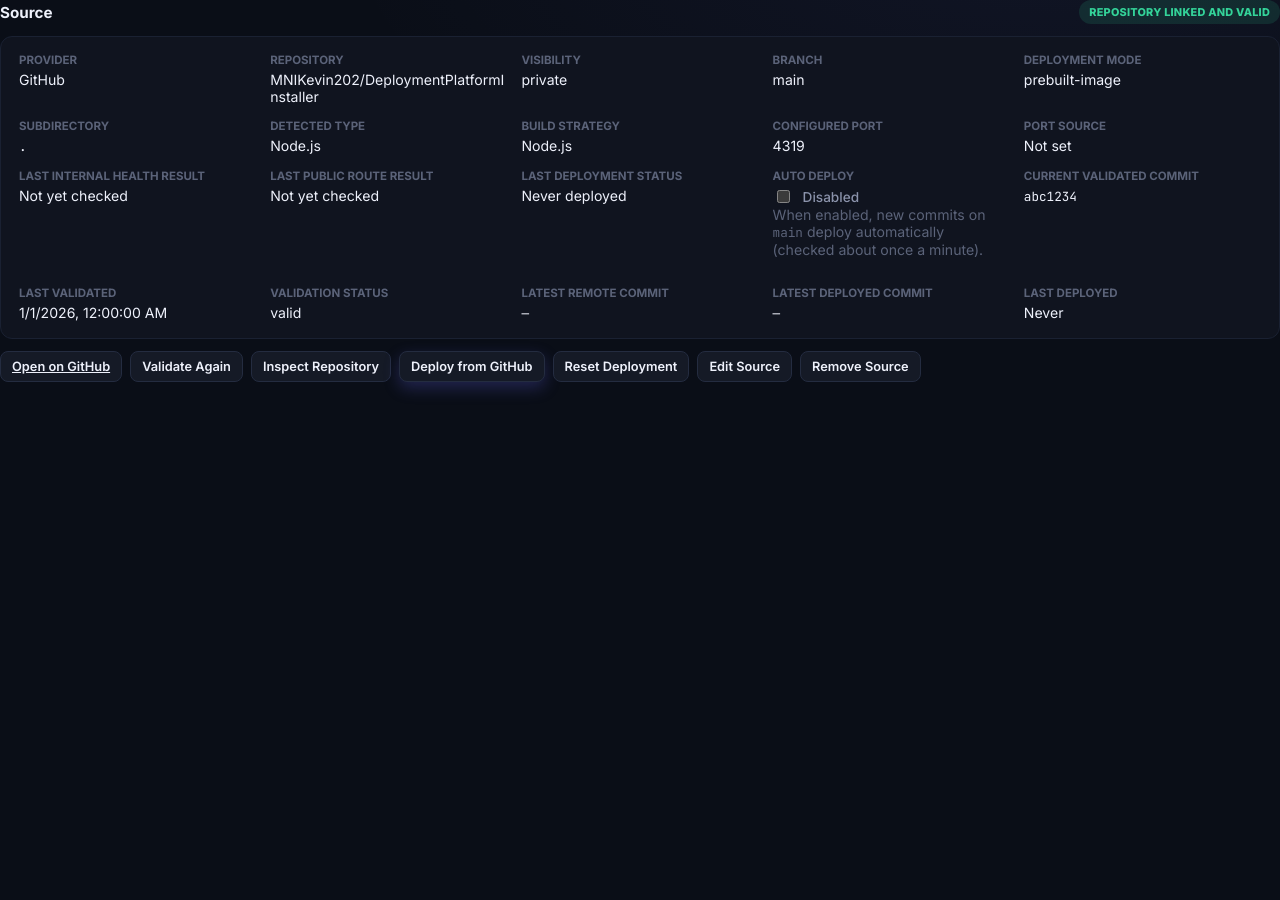
Test: SourcePanel — manual deployment-strategy override › a Node.js-detected repository can manually select Dockerfile
Expected: the text "MNIKevin202/DeploymentPlatformInstaller" is shown, [270,71,507,105]
Click the button "Edit Source" at (745, 367), box [697,351,792,382]
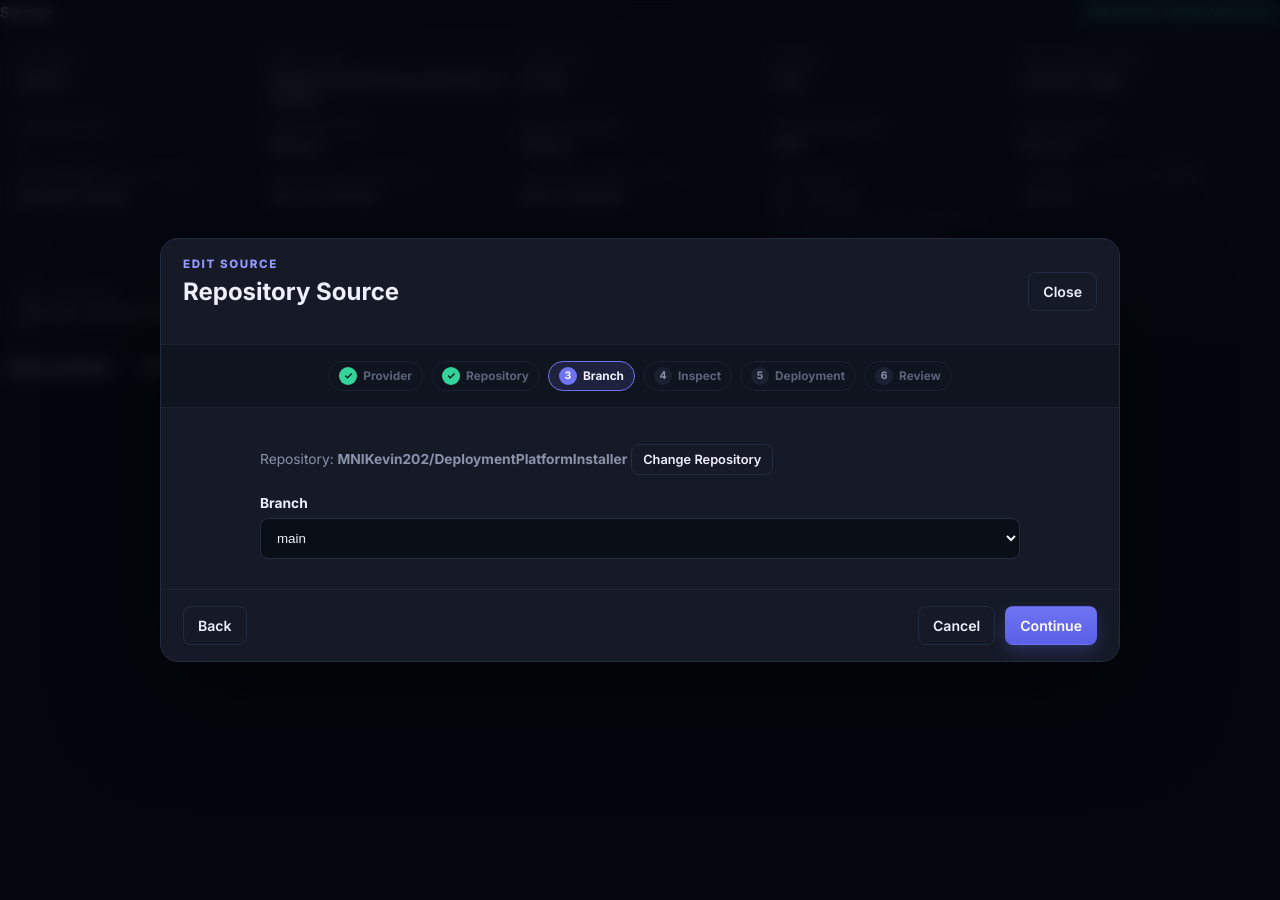
Expected: the text "Edit Source" is shown, [183,257,278,271]
Click the button "Continue" at (1051, 626), box [1005,606,1097,645]
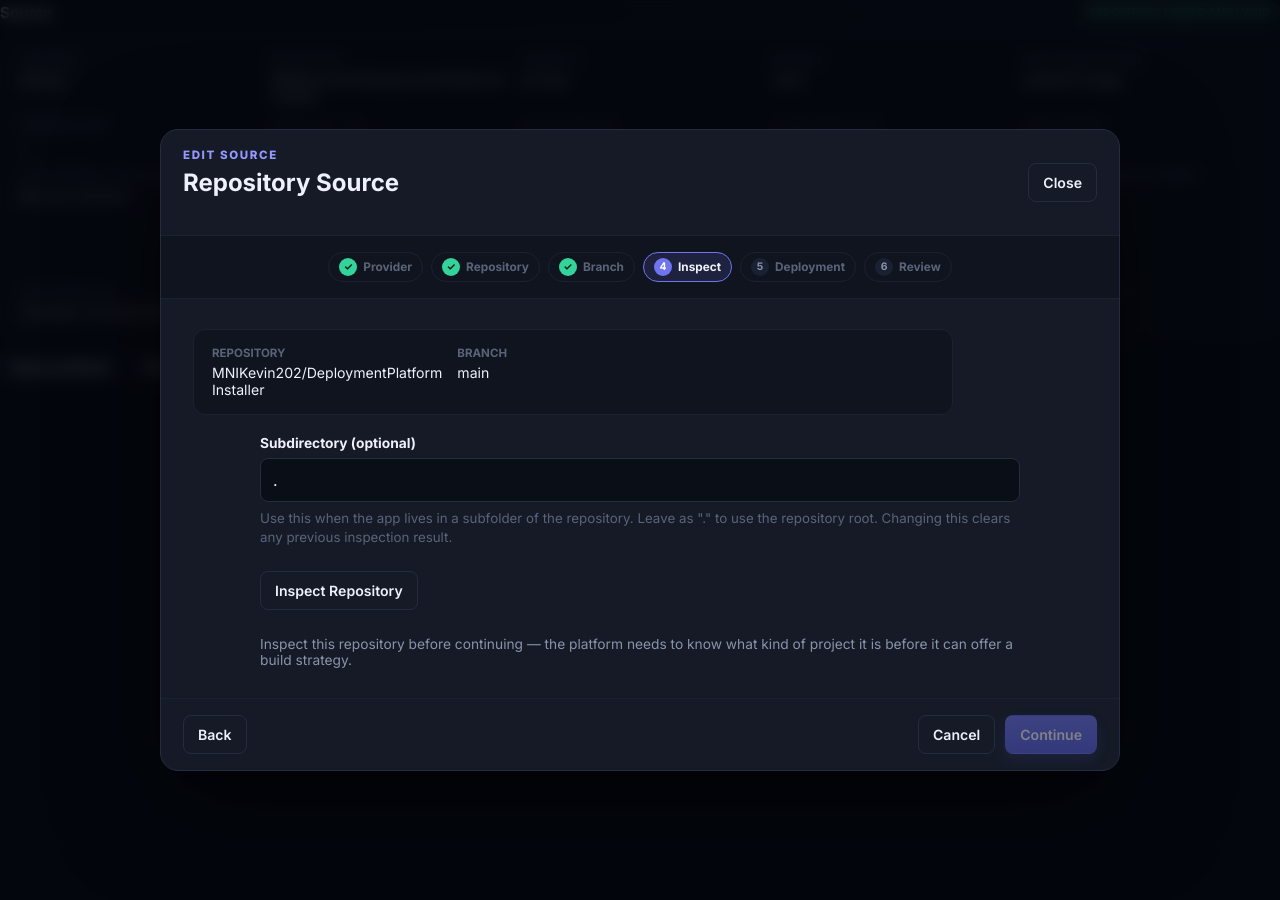
Click the button "Inspect Repository" at (339, 591), box [260,571,418,610]
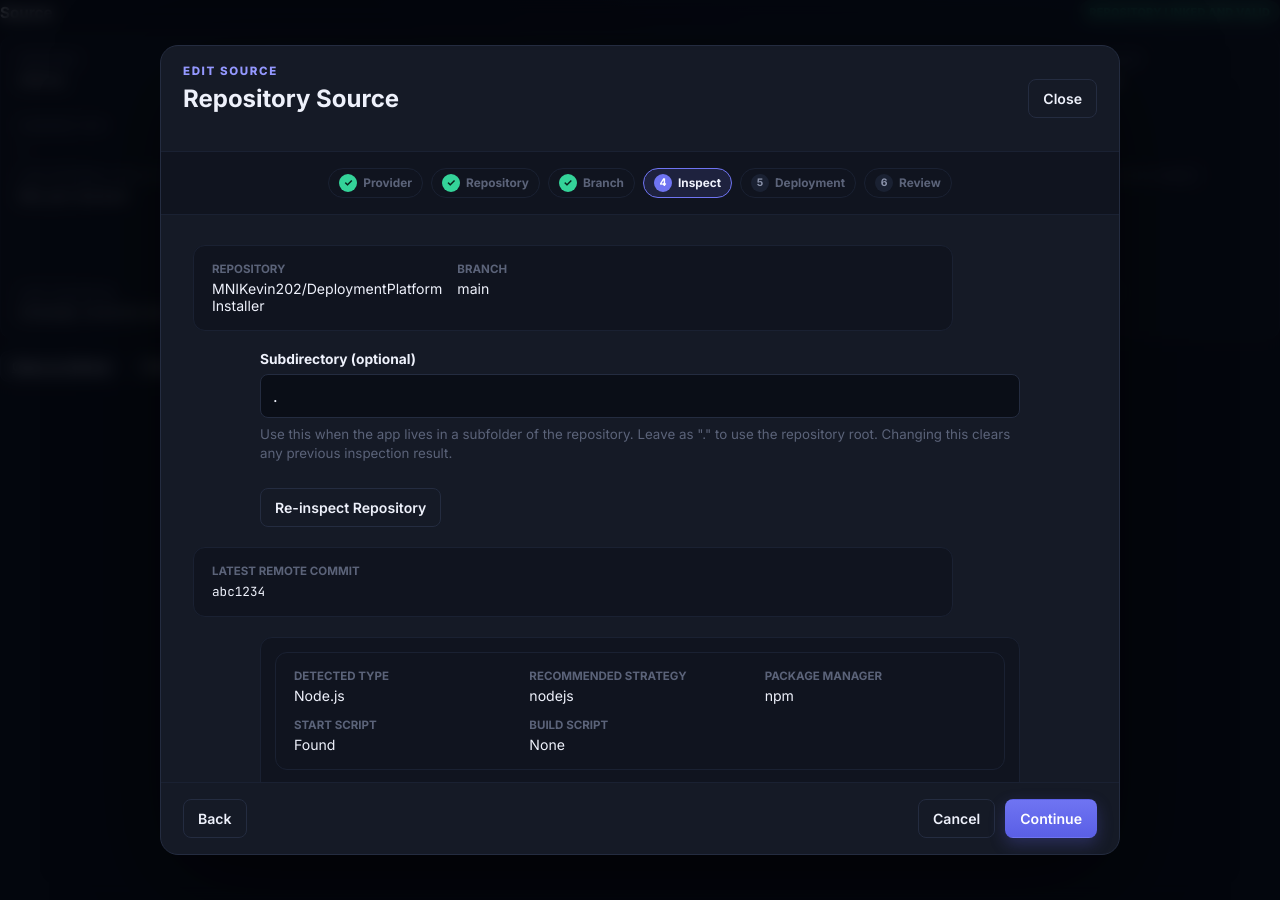
Expected: the text "Detected type" is shown, [294,668,389,682]
Click the button "Continue" at (1051, 818), box [1005,799,1097,838]
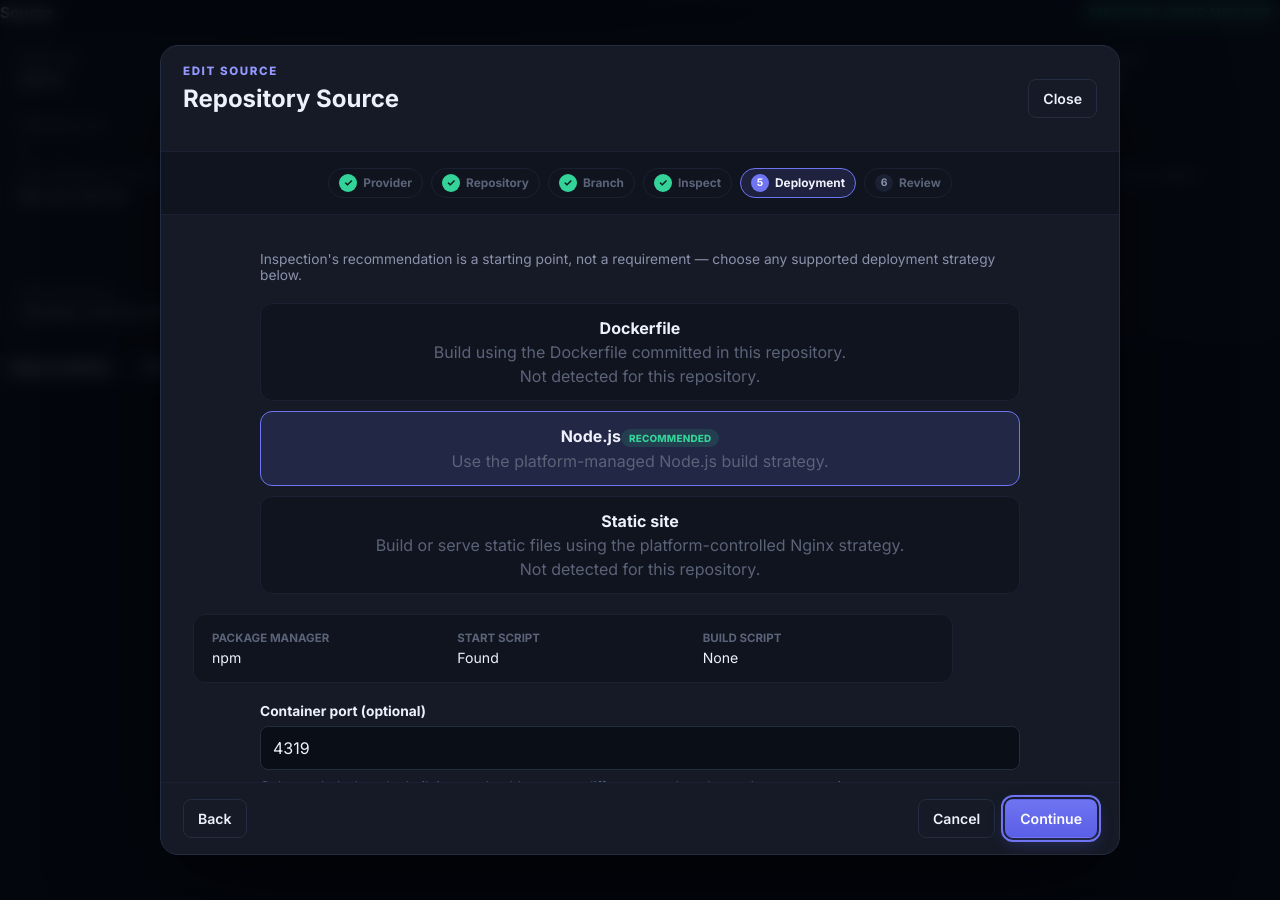
Expected: the button that starts with "Dockerfile" is enabled
Click the button that starts with "Dockerfile" at (640, 352), box [260,303,1020,401]
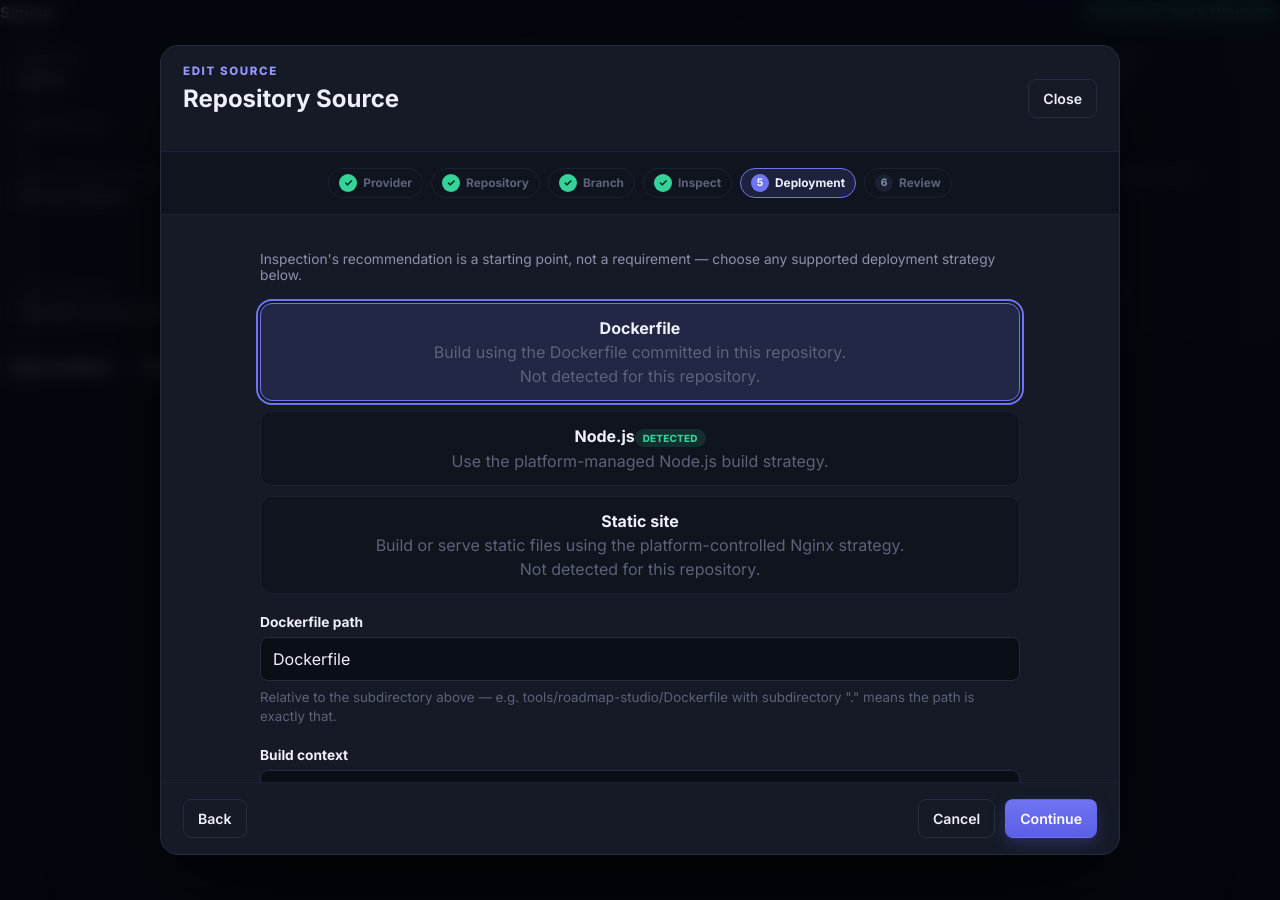
Expected: the text "Dockerfile path" is shown, [260,614,363,630]
